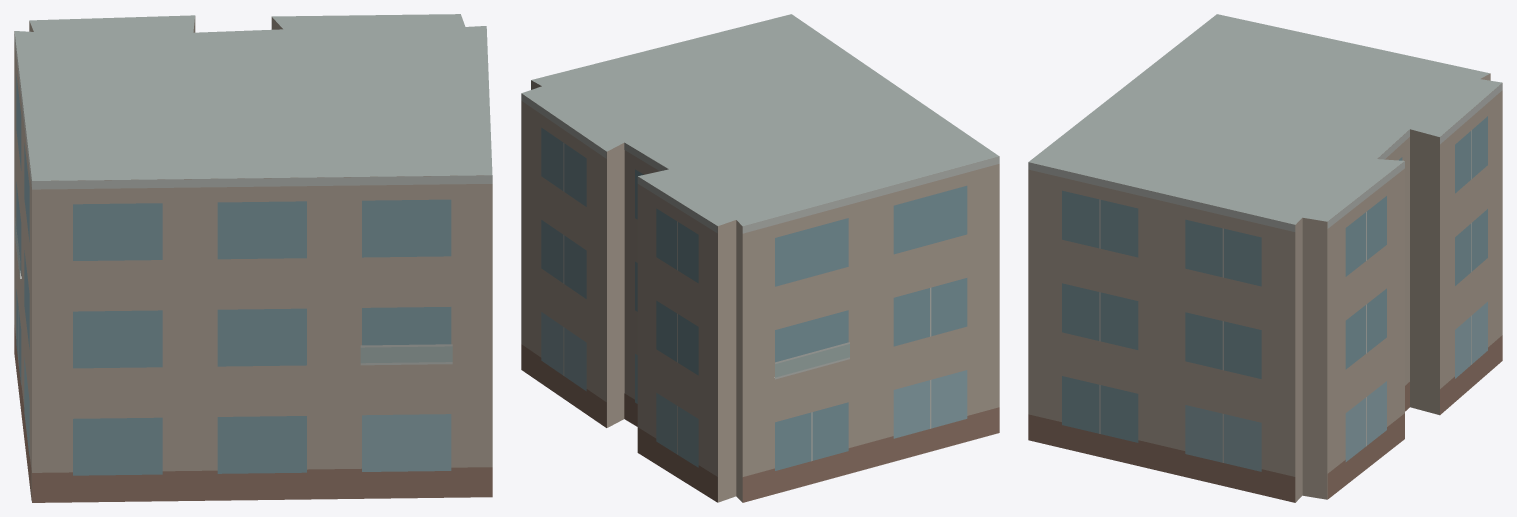
Rendered from survey-upis-32654274.glb.
3 views of the same model, side by side, from view 1: azimuth 30°, elevation 25°; view 2: azimuth 150°, elevation 25°; view 3: azimuth 270°, elevation 25° (orthographic). The views are drawn at different scales.
Visible parts, largest first — view 1: survey-upis-32654274.tmp; view 2: survey-upis-32654274.tmp; view 3: survey-upis-32654274.tmp.
Part boxes in pixels (x1,y1,x2,y2): survey-upis-32654274.tmp: [14, 14, 492, 502]; survey-upis-32654274.tmp: [521, 14, 999, 502]; survey-upis-32654274.tmp: [1028, 14, 1502, 502].
Bounding box in the file's own units: 14.89 × 9.15 × 14.16.
